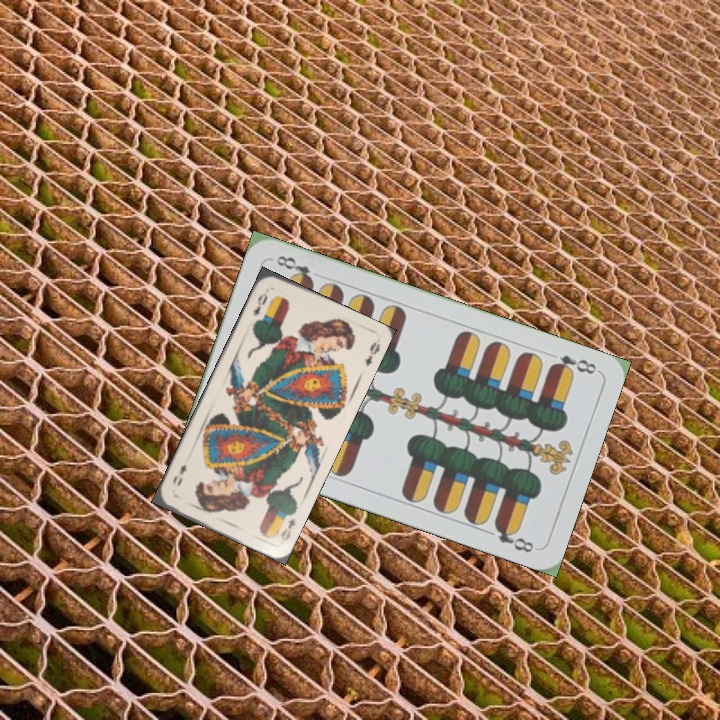E8: (546, 351, 599, 378)
EO: (249, 285, 271, 319), (276, 514, 298, 544)
